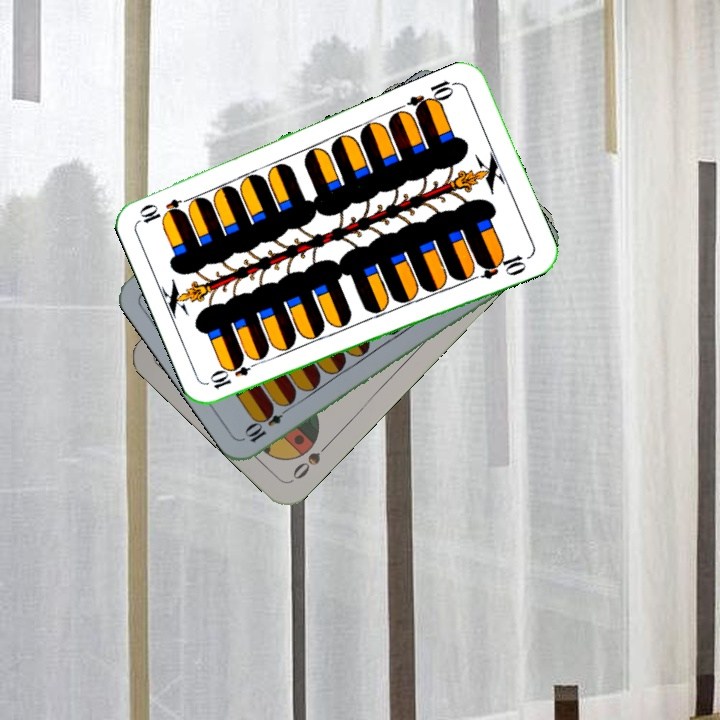E10: (241, 400, 294, 445), (404, 76, 461, 116), (206, 355, 263, 392)
SO: (287, 438, 333, 484)
